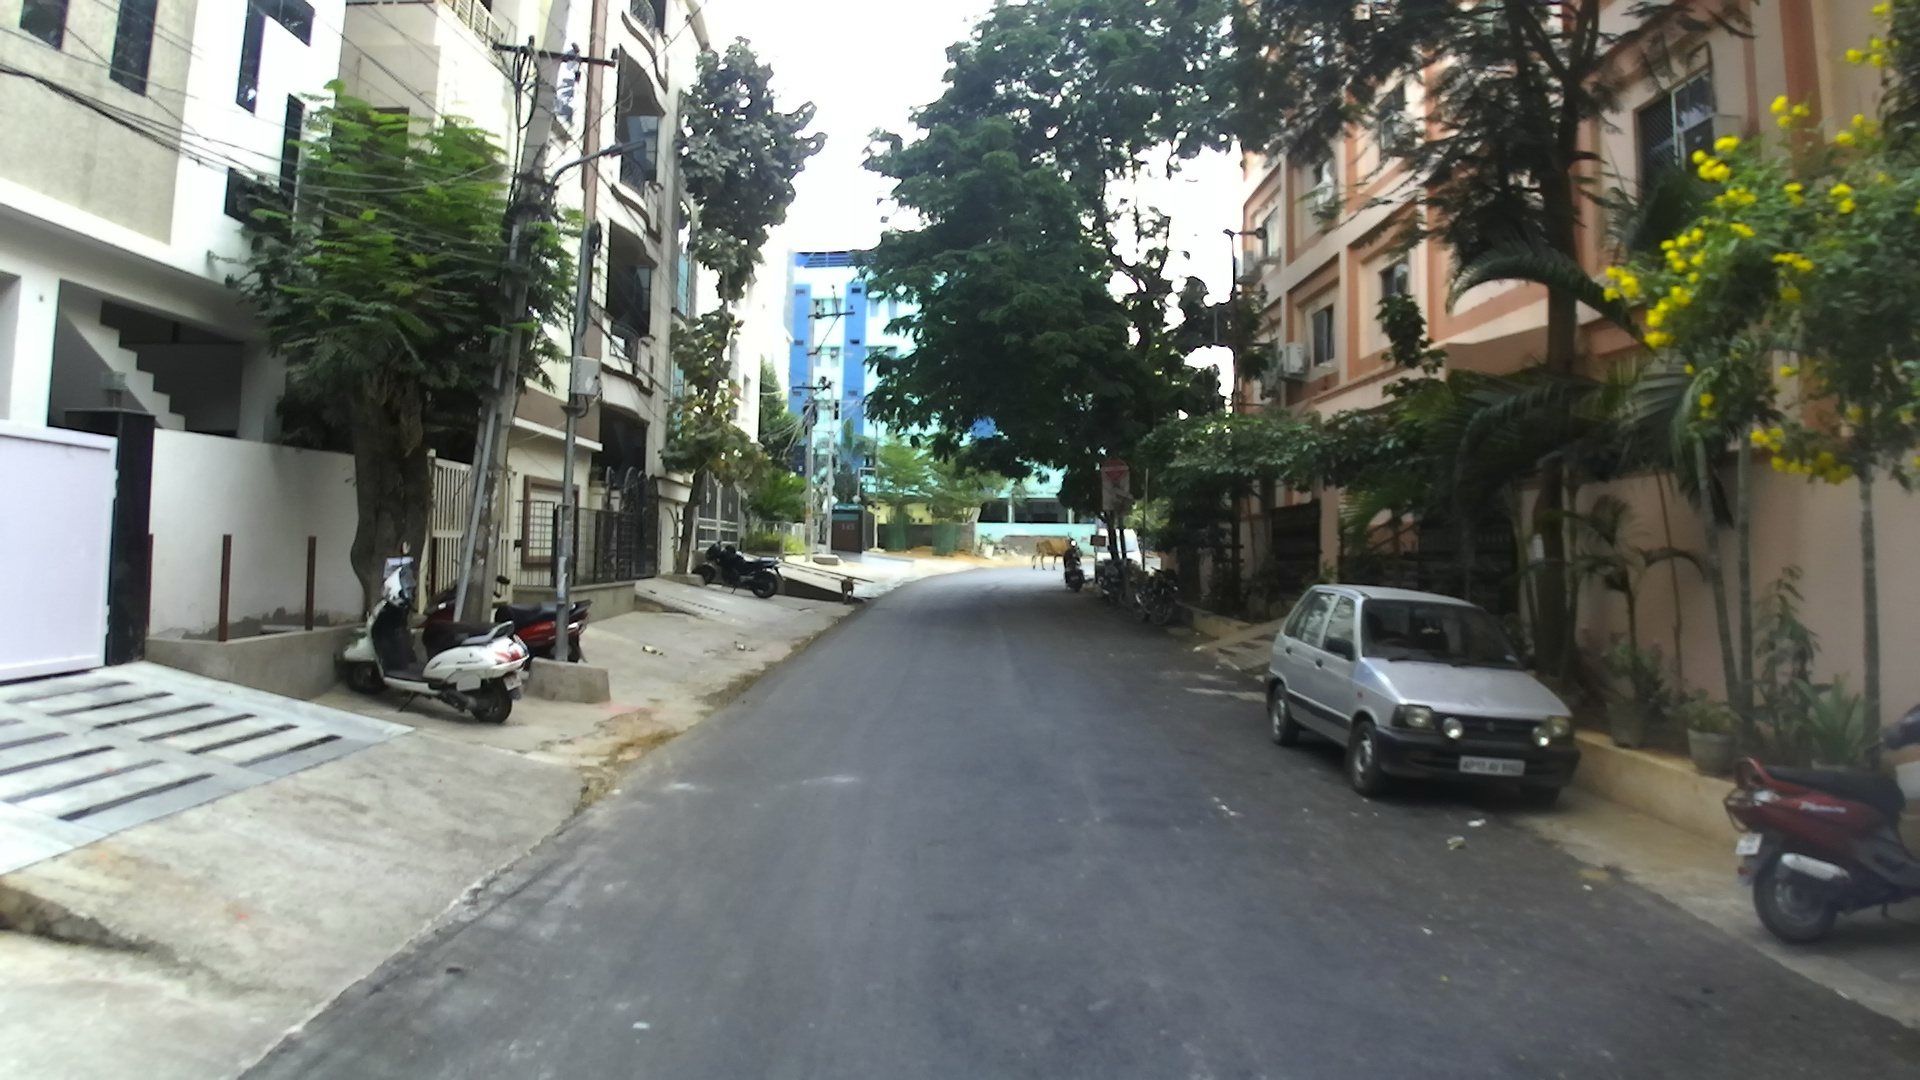vehicle: (1261, 582, 1578, 808), (1724, 735, 1919, 945)
